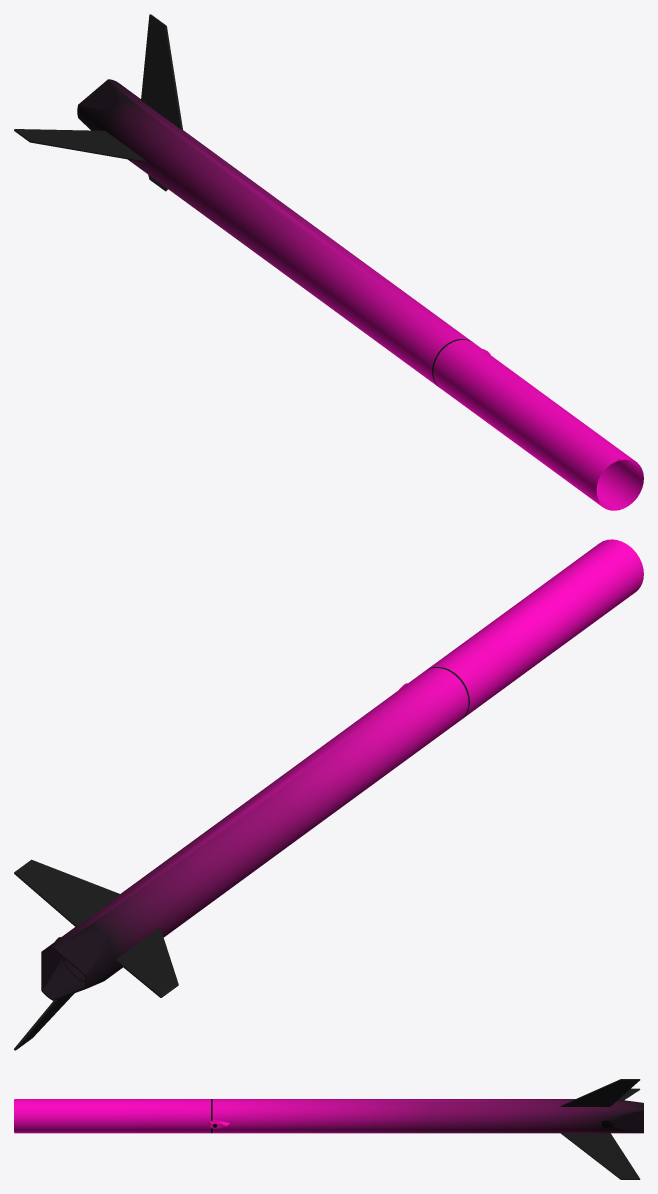
The model's file is deimos-ii-body.glb.
The picture shows the model from 3 angles, top to bottom: view 1: azimuth 30°, elevation 25°; view 2: azimuth 150°, elevation 25°; view 3: azimuth 270°, elevation 25°; orthographic projection. The views are drawn at different scales.
Visible parts, largest first — view 1: Body2 (×3), Body1 (×4); view 2: Body2 (×3), Body1 (×4); view 3: Body1 (×2), Body2 (×3), Body3.
Part boxes in pixels (bbox=[...]): Body2 (×3): bbox=[104, 14, 619, 510]; Body1 (×4): bbox=[14, 79, 643, 509]; Body2 (×3): bbox=[14, 540, 643, 977]; Body1 (×4): bbox=[41, 539, 617, 1000]; Body1 (×2): bbox=[14, 1100, 643, 1133]; Body2 (×3): bbox=[14, 1079, 640, 1106]; Body3: bbox=[561, 1133, 640, 1179].
Bounding box in the file's own units: 0.2843 × 0.3276 × 1.86.
